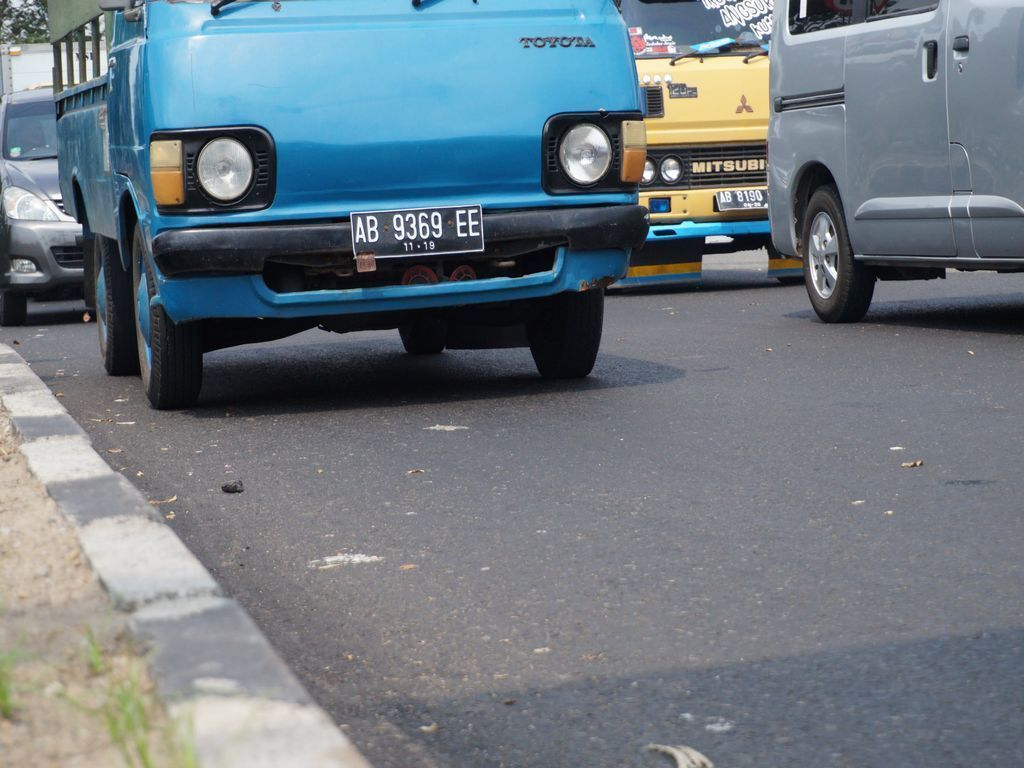plate: (356, 210, 482, 252)
